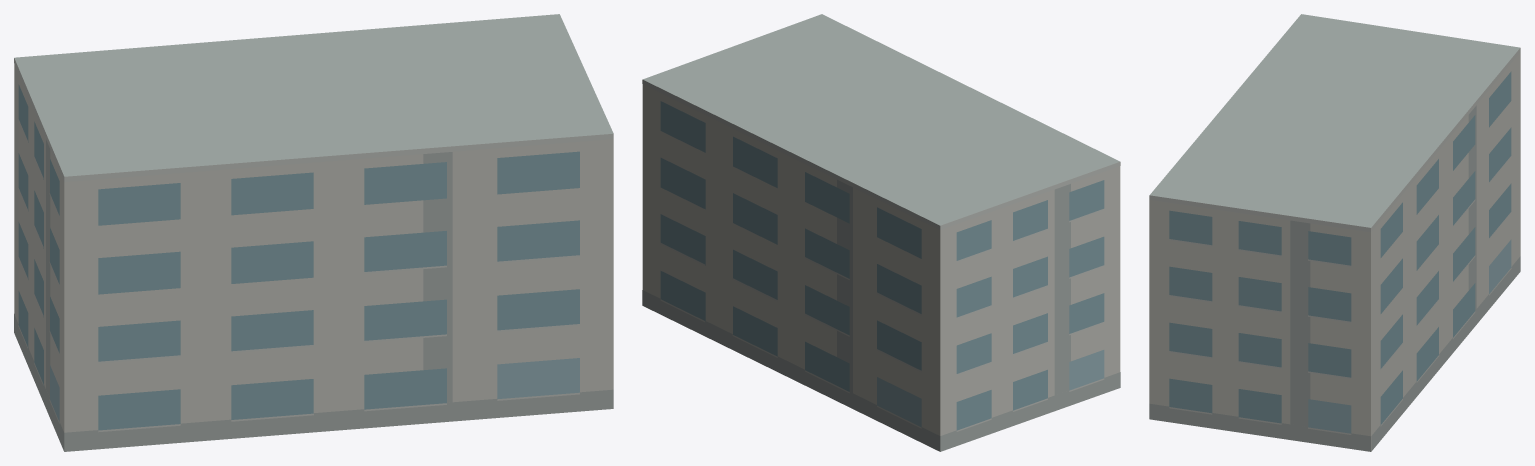
The model's file is survey-upis-32989467.glb.
The picture shows the model from 3 angles, left to right: view 1: azimuth 30°, elevation 25°; view 2: azimuth 150°, elevation 25°; view 3: azimuth 270°, elevation 25°; orthographic projection. The views are drawn at different scales.
Visible parts, largest first — view 1: survey-upis-32989467.tmp; view 2: survey-upis-32989467.tmp; view 3: survey-upis-32989467.tmp.
Boxes of the visible parts, x1,y1,x2,y2 form: survey-upis-32989467.tmp: (14,14,613,451); survey-upis-32989467.tmp: (642,14,1120,451); survey-upis-32989467.tmp: (1149,14,1520,451).
Size of the model in its own units: 24.99 by 12.2 by 18.32.
